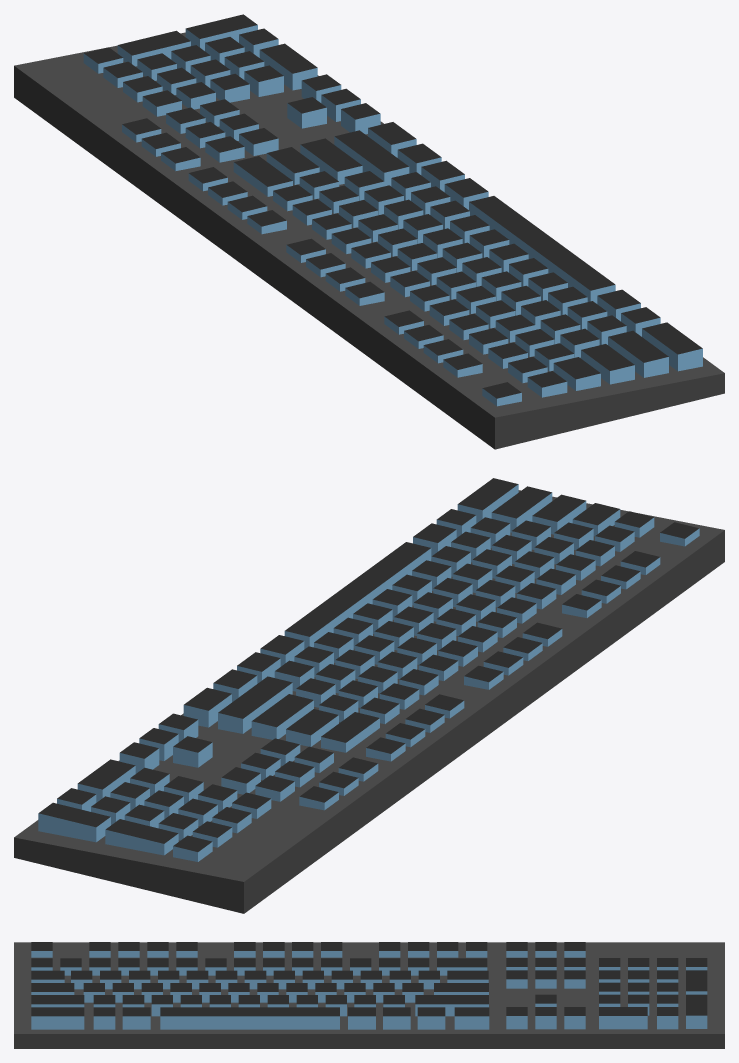
Rendered from Keyboard.glb.
The picture shows the model from 3 angles, top to bottom: view 1: azimuth 30°, elevation 25°; view 2: azimuth 150°, elevation 25°; view 3: azimuth 270°, elevation 25°; orthographic projection. The views are drawn at different scales.
Visible parts, largest first — view 1: KeysTop, KeyboardBase, KeysSides; view 2: KeysTop, KeyboardBase, KeysSides; view 3: KeyboardBase, KeysTop, KeysSides.
Boxes of the visible parts, x1=… form: KeysTop: x1=84, y1=14, x2=702, y2=398; KeyboardBase: x1=14, y1=32, x2=724, y2=449; KeysSides: x1=83, y1=25, x2=702, y2=406; KeysTop: x1=39, y1=478, x2=698, y2=851; KeyboardBase: x1=14, y1=490, x2=724, y2=913; KeysSides: x1=38, y1=484, x2=699, y2=861; KeyboardBase: x1=14, y1=942, x2=724, y2=1048; KeysTop: x1=31, y1=942, x2=707, y2=1016; KeysSides: x1=31, y1=951, x2=707, y2=1029.
Size of the model in its own units: 0.678 by 0.1095 by 2.45.
